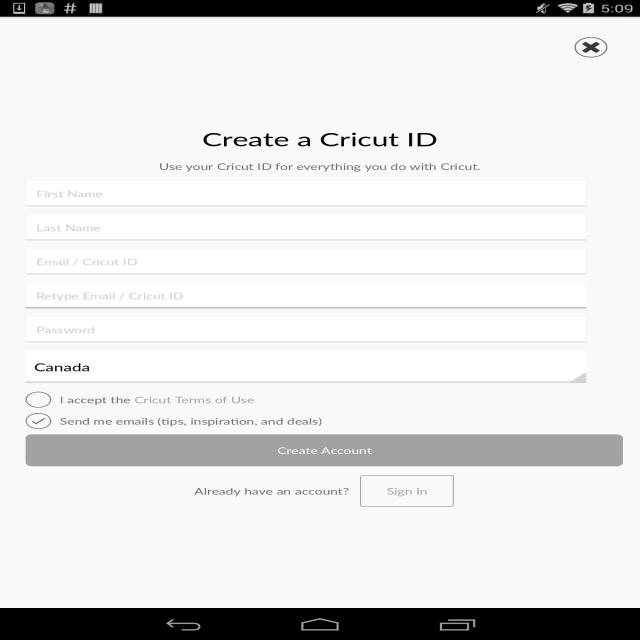Button: (26, 434, 623, 466), (360, 475, 454, 507)
CheckBox: (26, 413, 586, 429), (26, 392, 51, 408)
CheckedTextView: (26, 351, 586, 383)
EditText: (26, 181, 586, 206), (26, 215, 586, 240), (26, 249, 586, 274), (26, 283, 586, 308), (26, 317, 586, 342)
ImageView: (574, 37, 608, 58)
Spinner: (26, 351, 586, 383)
TextView: (202, 126, 438, 152), (159, 160, 480, 172), (60, 394, 254, 406), (194, 485, 349, 497)
